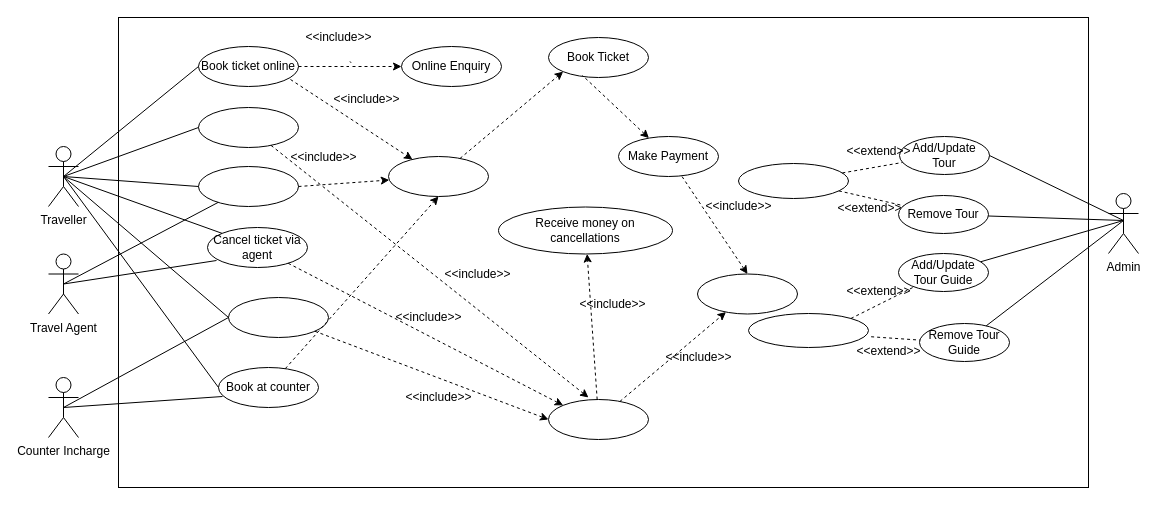
Image size: 1158x505. Some labels were removed from this diagram. The shapes that lost their labels are listed below. From the top down, each one's box as (x1, y1, x2, y2) in pixels, then its label:
(198, 106, 298, 148): Cancel booking online
(198, 166, 298, 206): Book via agent
(388, 156, 488, 196): Fill details
(738, 162, 848, 198): Update Tour record
(696, 273, 798, 314): Update Database
(228, 296, 328, 338): Cancel ticket at counter
(748, 312, 868, 348): Update Tour Guide record
(548, 398, 648, 440): Cancel ticket
